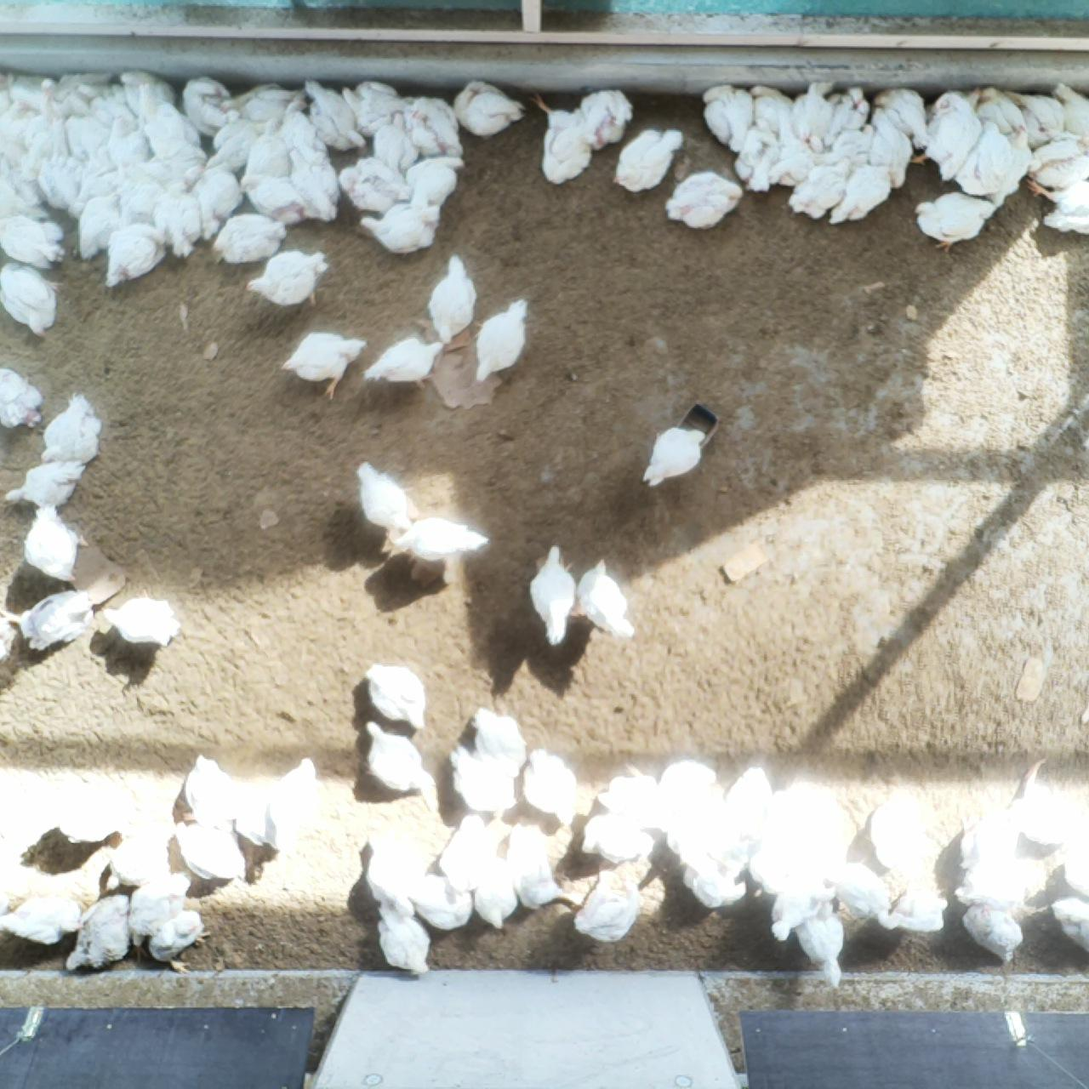chicken: (361, 718, 444, 815), (4, 842, 115, 912), (912, 90, 985, 183), (669, 828, 752, 909), (530, 88, 592, 192), (280, 329, 368, 401), (569, 866, 646, 948), (774, 778, 857, 854), (1012, 756, 1078, 846), (64, 892, 134, 975), (23, 503, 92, 587), (911, 189, 998, 255), (129, 873, 192, 964), (386, 514, 490, 569), (527, 543, 579, 648), (364, 829, 425, 917), (243, 248, 330, 309), (612, 124, 686, 195), (954, 852, 1051, 906), (18, 587, 97, 653), (473, 296, 530, 387), (353, 458, 421, 534), (506, 822, 564, 911), (866, 791, 928, 874), (520, 746, 582, 828), (576, 557, 637, 640), (0, 262, 63, 342), (426, 251, 478, 347), (449, 745, 520, 815), (825, 857, 897, 926), (101, 587, 181, 649), (173, 820, 250, 883), (659, 176, 744, 233), (276, 756, 324, 856), (363, 337, 447, 394), (106, 821, 175, 890), (38, 392, 104, 464), (357, 200, 440, 257), (596, 760, 665, 828), (363, 661, 430, 731), (452, 78, 527, 140), (0, 891, 84, 946), (824, 160, 894, 226), (139, 98, 210, 163), (305, 78, 369, 149), (955, 801, 1021, 869), (640, 425, 708, 491), (181, 754, 240, 830), (188, 162, 242, 244), (148, 908, 213, 976), (375, 902, 433, 978), (438, 813, 492, 894), (956, 118, 1010, 199), (5, 457, 87, 510), (722, 762, 776, 842), (696, 79, 754, 153), (469, 704, 529, 775), (786, 158, 853, 221), (212, 210, 288, 265), (287, 147, 342, 222), (577, 85, 637, 153), (238, 172, 309, 229), (1023, 175, 1089, 236), (961, 901, 1023, 964), (102, 225, 163, 289), (155, 180, 204, 259), (769, 881, 830, 944), (879, 882, 950, 935), (578, 816, 658, 863), (50, 790, 125, 840), (0, 212, 69, 266), (873, 84, 932, 146), (801, 912, 846, 993), (231, 774, 277, 852), (789, 78, 835, 155), (415, 876, 476, 934), (870, 109, 913, 191), (1006, 87, 1067, 144), (338, 155, 403, 208), (989, 125, 1032, 205), (659, 757, 718, 815), (734, 117, 778, 194), (1029, 132, 1089, 188), (181, 75, 236, 136), (277, 100, 331, 161), (408, 100, 465, 157), (77, 194, 123, 264), (342, 83, 403, 134), (0, 365, 44, 435), (978, 85, 1031, 143), (478, 858, 520, 931), (406, 156, 465, 204), (118, 68, 178, 115), (246, 116, 290, 177), (374, 110, 418, 170), (1046, 894, 1089, 954), (773, 134, 824, 184), (40, 67, 113, 101), (70, 163, 115, 216), (37, 157, 76, 218), (117, 171, 164, 221), (207, 125, 261, 168), (749, 81, 797, 129), (107, 115, 150, 167), (826, 85, 870, 134), (0, 168, 43, 218), (147, 154, 208, 189), (65, 113, 110, 157), (1056, 82, 1089, 142), (243, 87, 298, 121), (3, 131, 50, 170), (827, 124, 874, 162), (4, 72, 52, 108), (26, 94, 56, 149), (0, 100, 36, 145), (88, 96, 135, 125), (0, 98, 32, 140), (74, 80, 133, 101)
